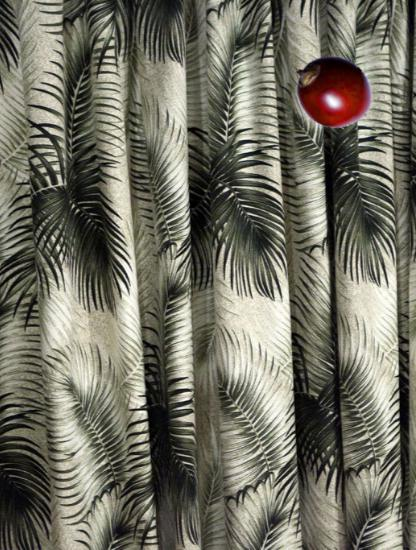Tamarillo: (293, 51, 374, 132)
